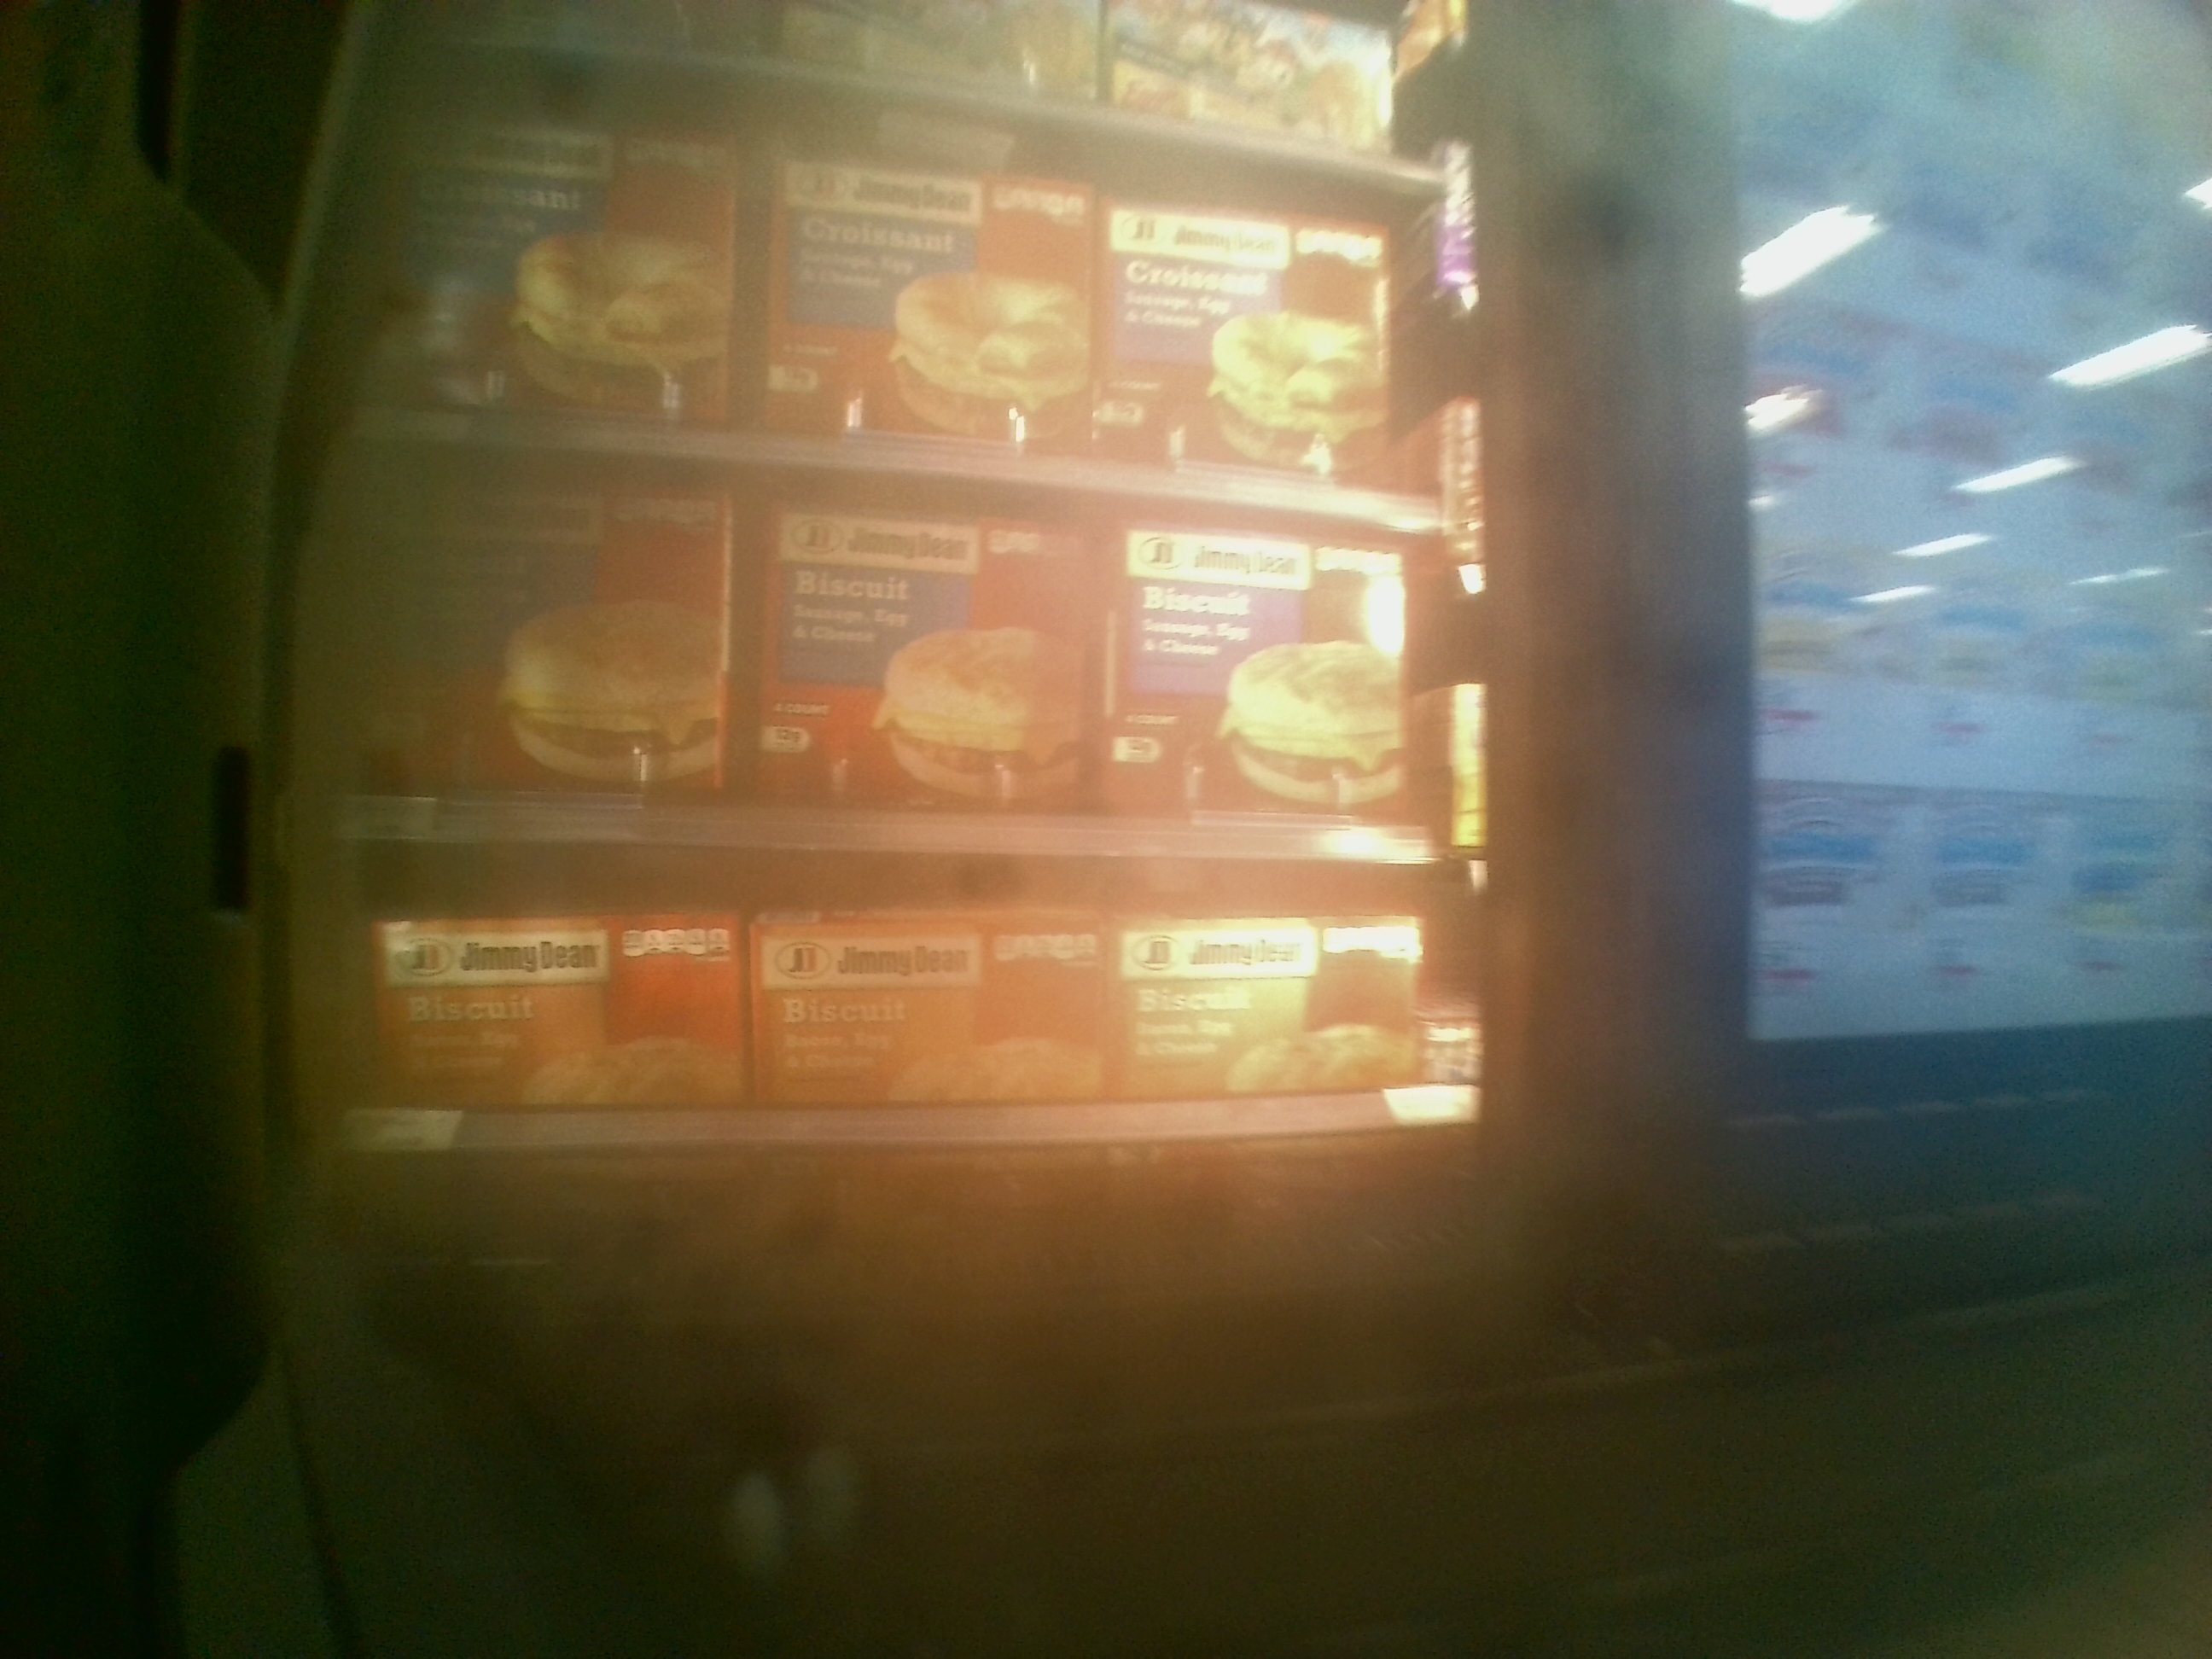shelf: (340, 425, 1470, 854), (343, 852, 1475, 1246)
